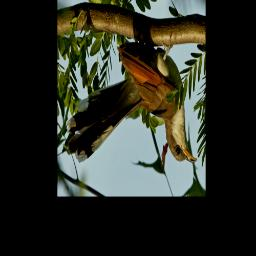Cuckoo: (66, 39, 197, 163)
